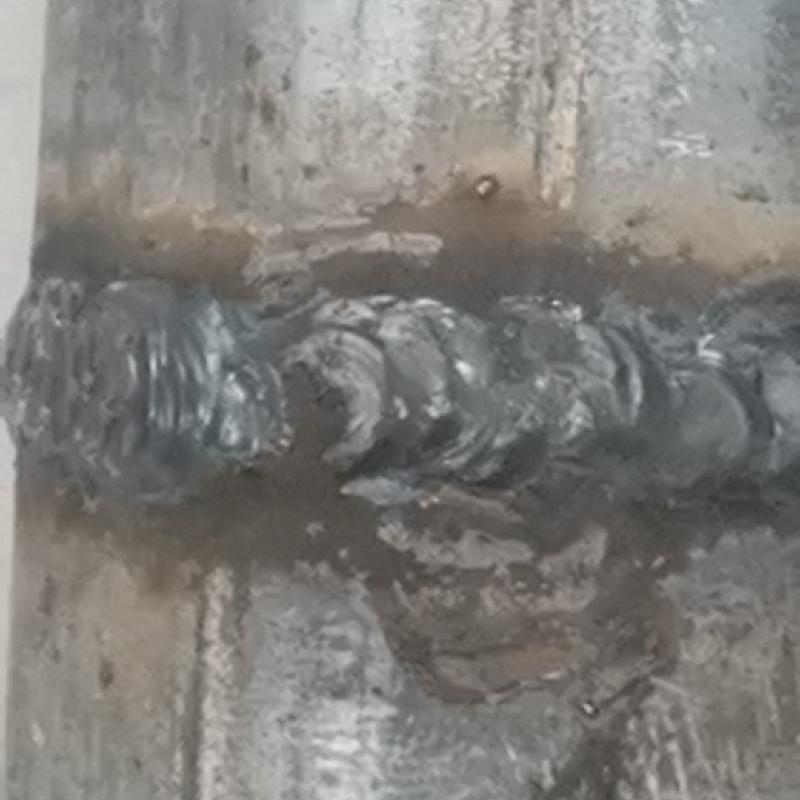good: (1, 260, 799, 500)
